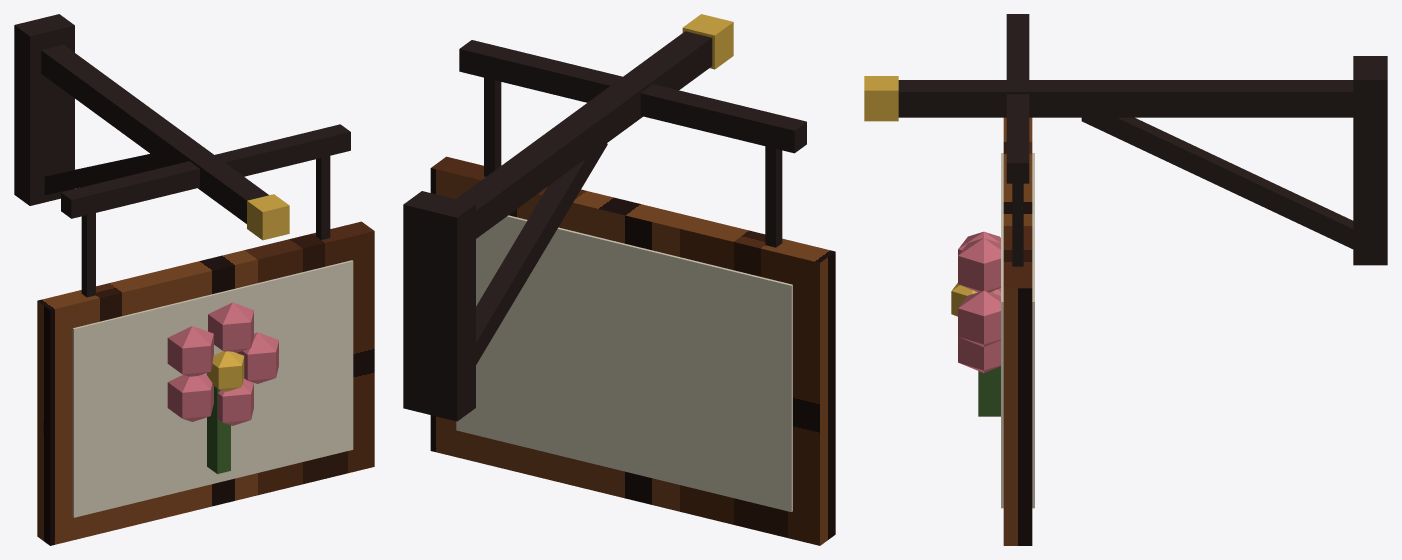
File: hanging_sign_flower.glb
3 renders of one model, left to right at view 1: azimuth 30°, elevation 25°; view 2: azimuth 150°, elevation 25°; view 3: azimuth 270°, elevation 25°, orthographic. The views are drawn at different scales.
Visible parts, largest first — view 1: hanging_sign_flower; view 2: hanging_sign_flower; view 3: hanging_sign_flower.
Part boxes in pixels (x1,y1,x2,y2): hanging_sign_flower: [14, 14, 374, 545]; hanging_sign_flower: [403, 14, 835, 545]; hanging_sign_flower: [864, 14, 1387, 545].
Bounding box in the file's own units: 0.72 × 0.76 × 0.92.
Materials: 2 (1 with a texture image).
